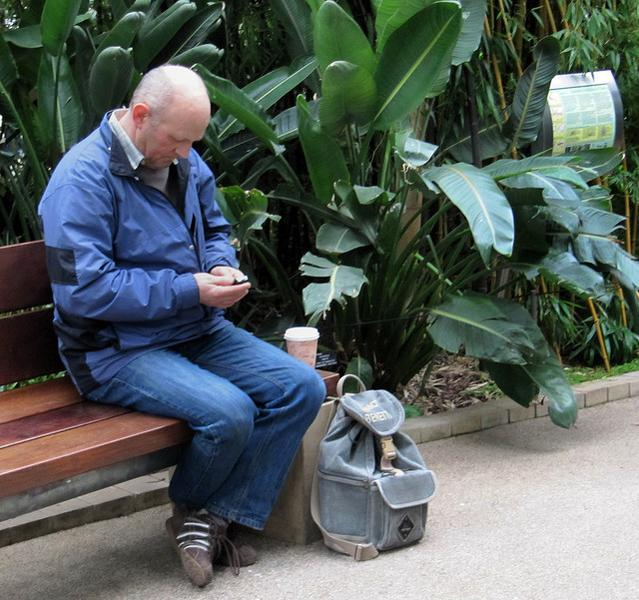person: (41, 65, 325, 587)
